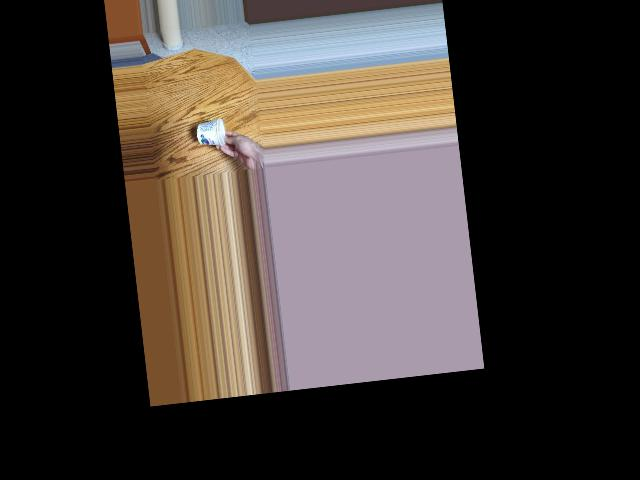cotage: (196, 112, 233, 151)
